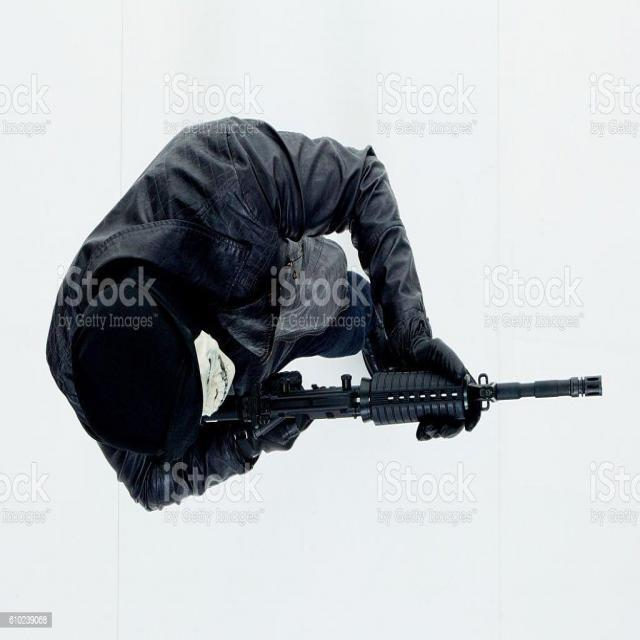gun: (192, 369, 602, 435)
